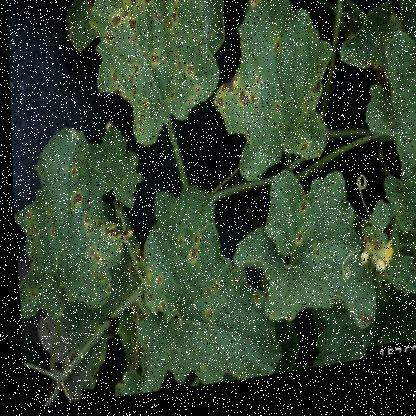AlternariaBrassicicola: (218, 75, 239, 103), (198, 284, 220, 308), (163, 11, 182, 38), (83, 245, 101, 272), (109, 12, 134, 31), (125, 0, 157, 14), (235, 93, 249, 120), (125, 66, 141, 88), (145, 51, 162, 71), (67, 189, 83, 210), (269, 43, 283, 66), (211, 100, 227, 119), (287, 238, 301, 258), (150, 12, 164, 32), (295, 146, 309, 166), (80, 216, 92, 239), (172, 59, 184, 82), (294, 210, 308, 228), (188, 235, 202, 253), (183, 250, 196, 269), (183, 68, 195, 88), (246, 96, 258, 116), (64, 167, 79, 181), (253, 78, 264, 97), (102, 33, 115, 49), (172, 239, 183, 257), (199, 315, 212, 330), (150, 278, 160, 293), (111, 74, 119, 89), (171, 0, 183, 9)
